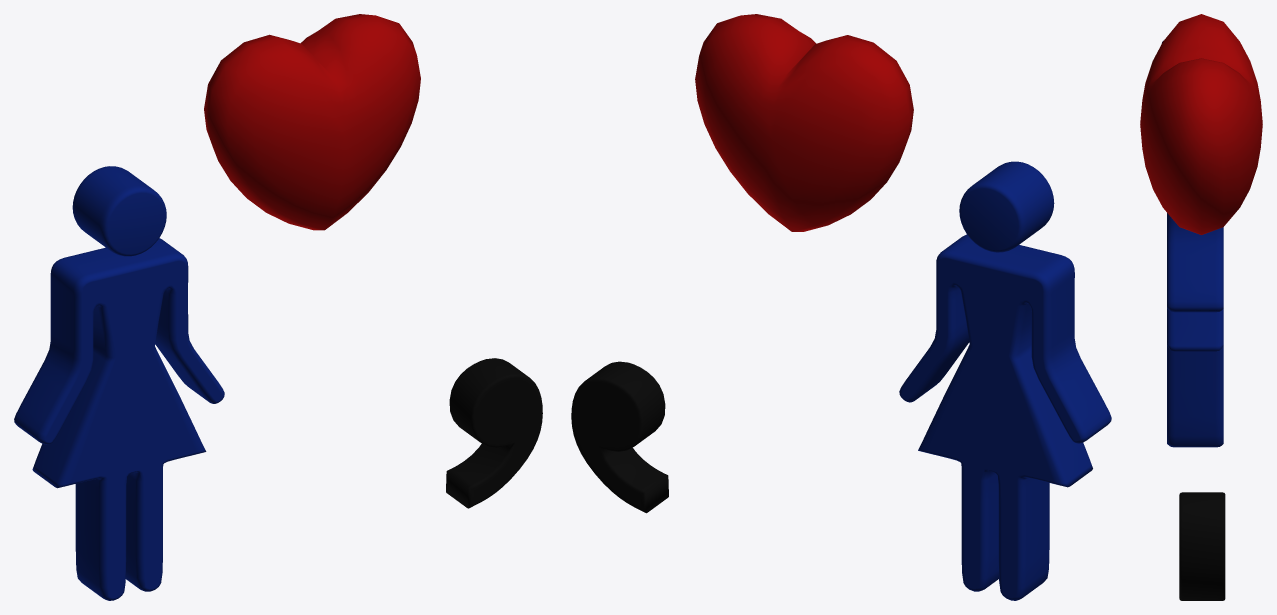
The model's file is 07_亲爱的.FBX.
3 views of the same model, side by side, from view 1: azimuth 30°, elevation 25°; view 2: azimuth 150°, elevation 25°; view 3: azimuth 270°, elevation 25° (orthographic). The views are drawn at different scales.
Parts seen in each view (by area): view 1: Plane018, Ellipse016, 对象014, 对象015; view 2: Plane018, Ellipse016, 对象014, 对象015; view 3: Ellipse016, Plane018, 对象014.
Boxes of the visible parts, x1,y1,x2,y2 form: Plane018: (14,238,224,600); Ellipse016: (204,14,420,230); 对象014: (446,358,542,508); 对象015: (72,166,166,256); Plane018: (899,234,1111,600); Ellipse016: (695,14,913,231); 对象014: (571,361,668,513); 对象015: (959,161,1054,252); Ellipse016: (1140,14,1262,234); Plane018: (1167,213,1223,447); 对象014: (1179,492,1225,600).
Size of the model in its own units: 151 by 144 by 32.71.
